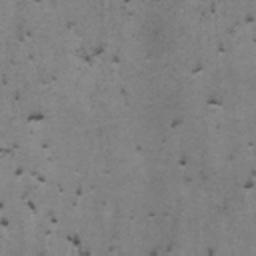Oxide scale of temperature system: (0, 91, 91, 256), (193, 1, 255, 105), (134, 118, 188, 166), (83, 45, 120, 63), (243, 168, 256, 189), (150, 244, 163, 256), (206, 244, 216, 256), (26, 28, 33, 38)
